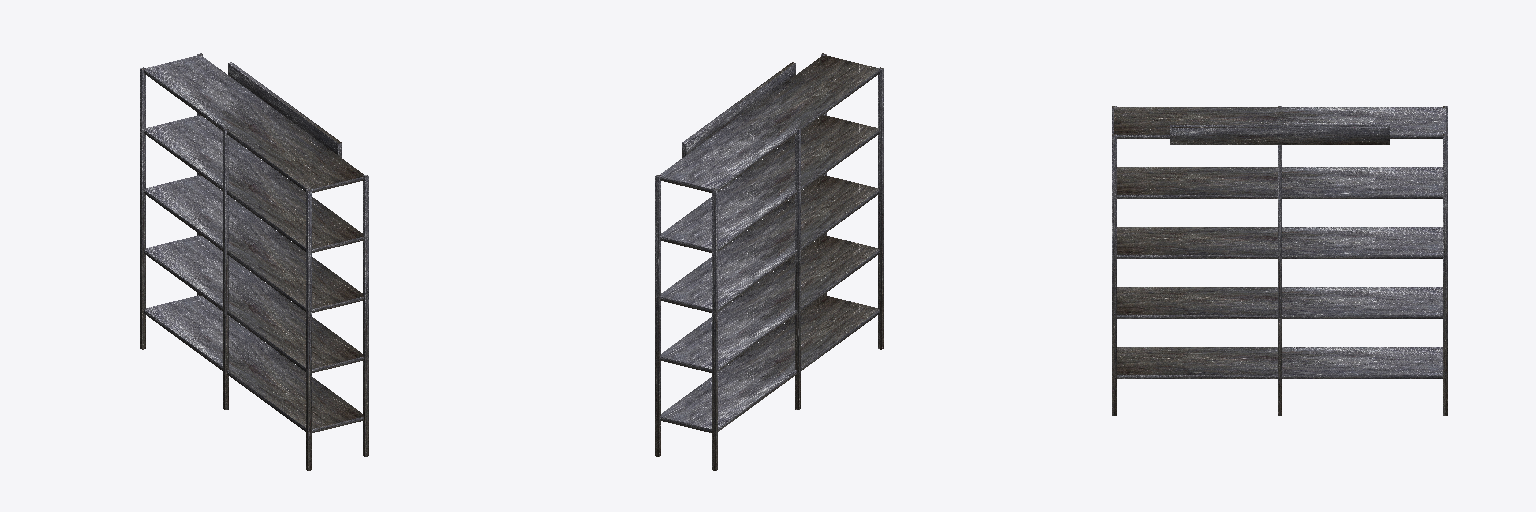
The picture shows the model from 3 angles: view 1: azimuth 30°, elevation 25°; view 2: azimuth 150°, elevation 25°; view 3: azimuth 270°, elevation 25°; orthographic projection.
Visible parts, largest first — view 1: Box5, Box, Box3, Box2, Box1, Box11, Box8, Box6, Box10, Box7; view 2: Box5, Box, Box3, Box2, Box1, Box11, Box7, Box4, Box10, Box8; view 3: Box3, Box, Box2, Box1, Box5, Box12, Box4, Box6, Box11, Box9.
Boxes of the visible parts, x1,y1,x2,y2 form: Box5: [144, 55, 363, 192]; Box: [144, 295, 363, 432]; Box3: [144, 115, 363, 252]; Box2: [144, 175, 363, 312]; Box1: [144, 235, 363, 372]; Box11: [228, 62, 341, 157]; Box8: [306, 188, 311, 470]; Box6: [363, 175, 368, 456]; Box10: [223, 128, 228, 409]; Box7: [140, 67, 145, 349]; Box5: [660, 55, 879, 192]; Box: [660, 295, 879, 432]; Box3: [660, 115, 879, 252]; Box2: [660, 175, 879, 312]; Box1: [660, 235, 879, 372]; Box11: [682, 62, 795, 157]; Box7: [712, 188, 717, 470]; Box4: [655, 175, 660, 456]; Box10: [795, 128, 800, 409]; Box8: [878, 67, 883, 349]; Box3: [1117, 167, 1442, 198]; Box: [1117, 347, 1442, 378]; Box2: [1117, 227, 1442, 258]; Box1: [1117, 287, 1442, 318]; Box5: [1114, 107, 1445, 138]; Box12: [1172, 127, 1387, 143]; Box4: [1443, 134, 1447, 415]; Box6: [1112, 134, 1116, 415]; Box11: [1170, 123, 1389, 144]; Box9: [1278, 145, 1281, 415].
Bounding box in the file's own units: 0.335 × 1.46 × 1.52.
Materials: 2 (1 with a texture image).